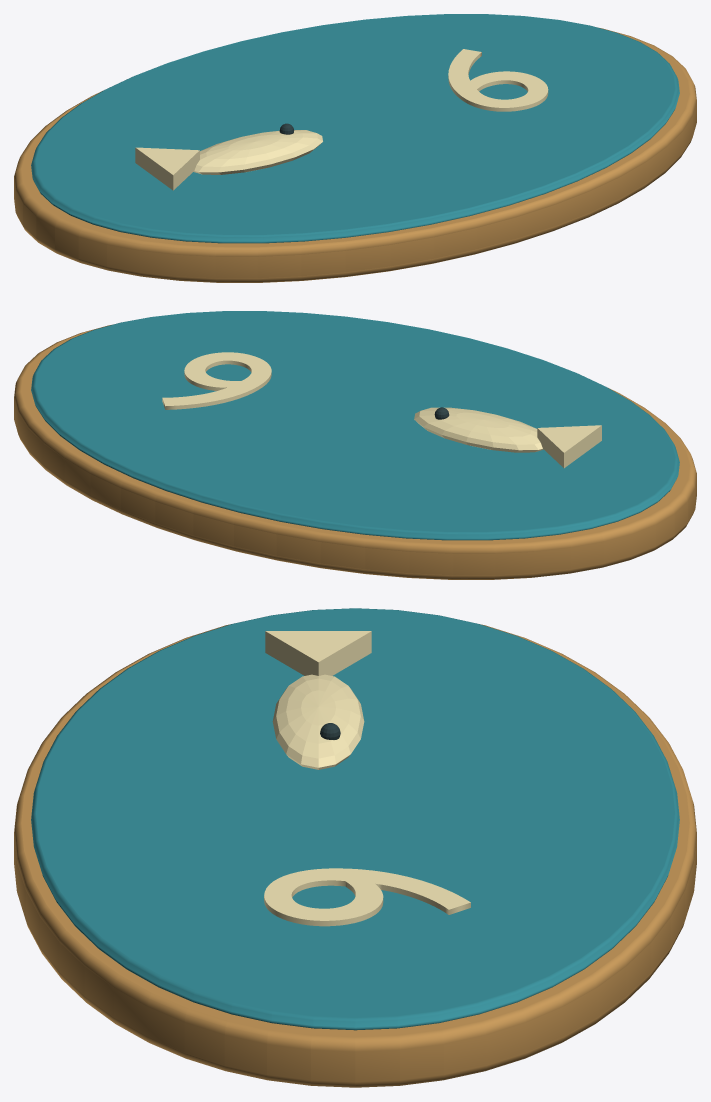
File: ground-6.fbx
3 views of the same model, one above another, from view 1: azimuth 30°, elevation 25°; view 2: azimuth 150°, elevation 25°; view 3: azimuth 270°, elevation 25° (orthographic). The views are drawn at different scales.
Visible parts, largest first — view 1: ground-6; view 2: ground-6; view 3: ground-6.
Boxes of the visible parts, left/top/right/bottom form: ground-6: left=14, top=14, right=696, bottom=282; ground-6: left=14, top=311, right=696, bottom=579; ground-6: left=14, top=608, right=696, bottom=1087.
Bounding box in the file's own units: 2.8 × 0.288 × 1.85.
